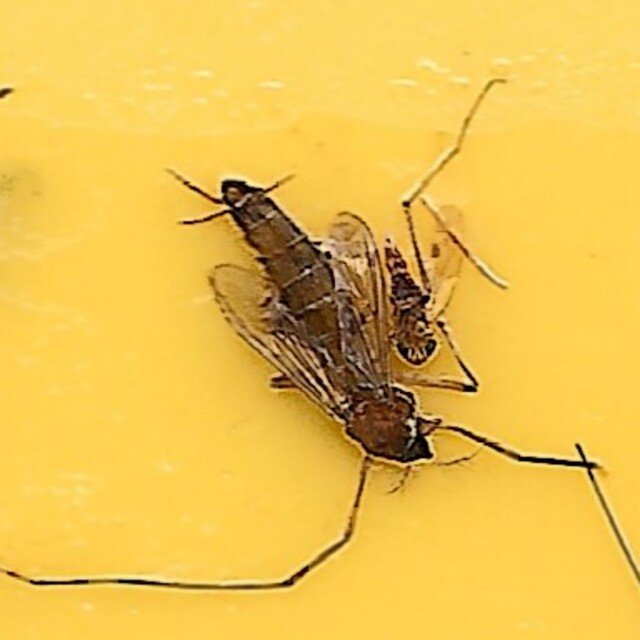Hemiptera: (325, 205, 473, 373)
Nematocera: (167, 158, 452, 482)
